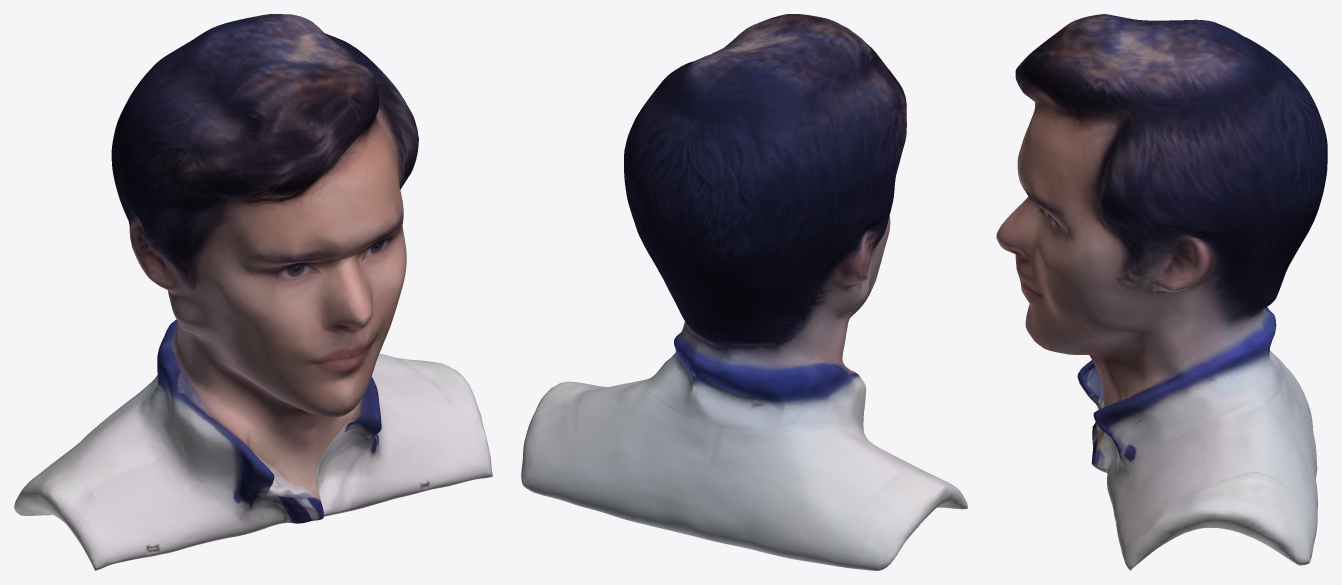
Rendered from adrianek_model.glb.
The picture shows the model from 3 angles, left to right: view 1: azimuth 30°, elevation 25°; view 2: azimuth 150°, elevation 25°; view 3: azimuth 270°, elevation 25°; orthographic projection. The views are drawn at different scales.
Size of the model in its own units: 1.09 by 1.2 by 0.7883.
1 material, 1 textured.
